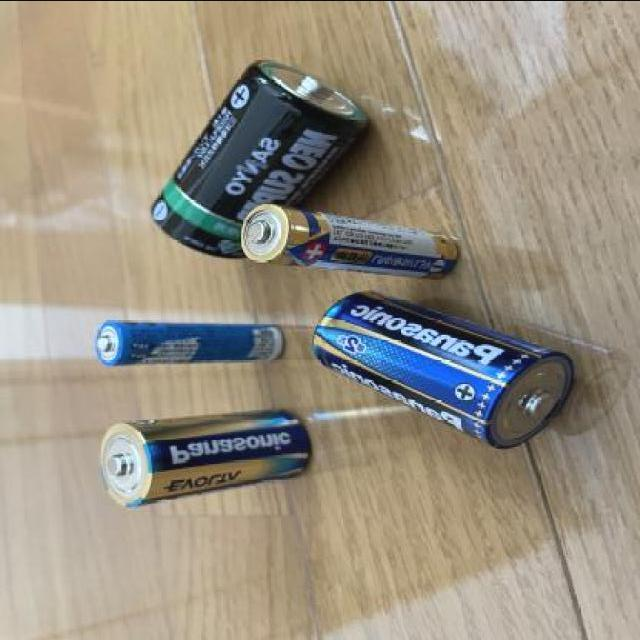AA: (236, 200, 462, 283)
AAA: (90, 314, 292, 377)
